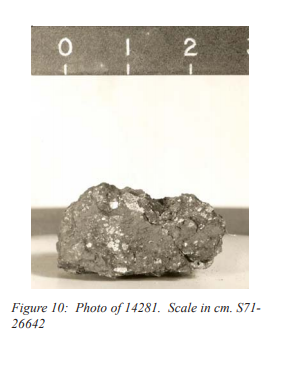Breccia: (25, 152, 240, 280), (40, 157, 240, 280)
